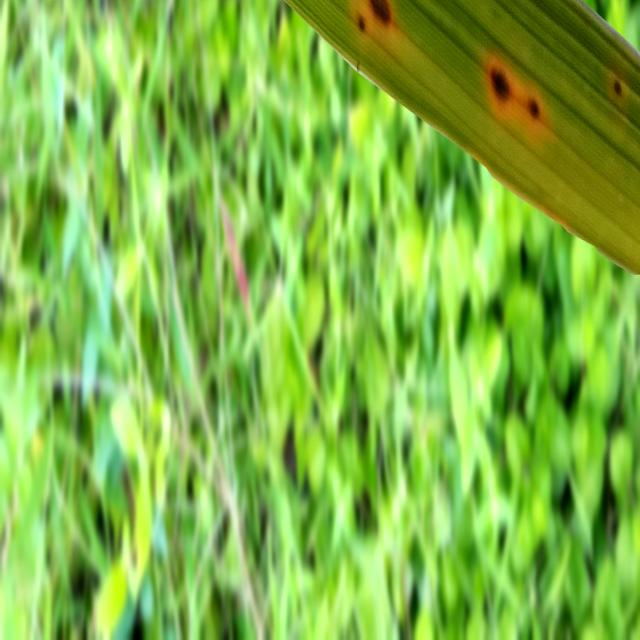LEAF BLAST: (370, 0, 391, 24)
